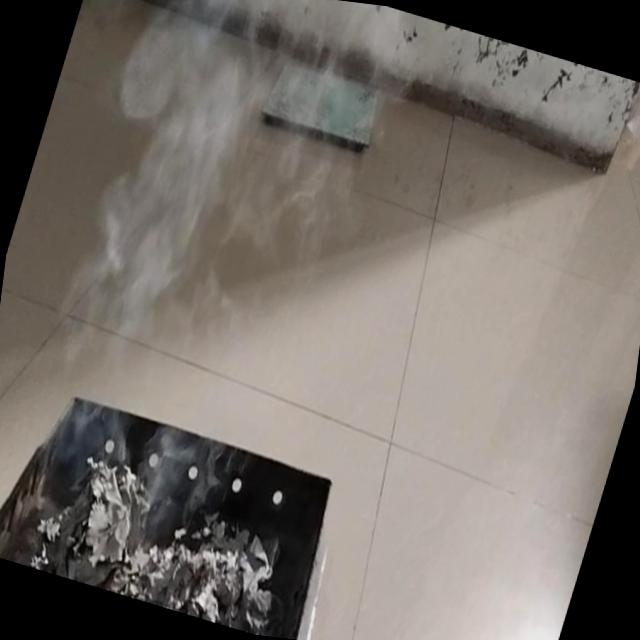smoke: (10, 0, 343, 511)
